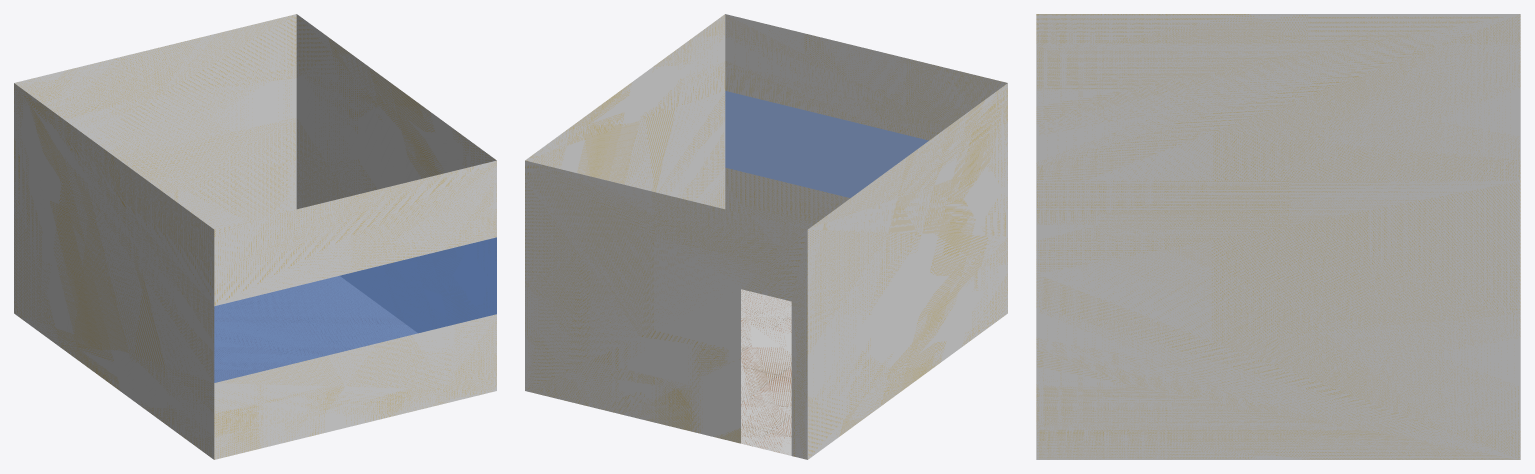
File: LAB008.obj
3 renders of one model, left to right at view 1: azimuth 30°, elevation 25°; view 2: azimuth 150°, elevation 25°; view 3: azimuth 270°, elevation 25°, orthographic. The views are drawn at different scales.
Parts seen in each view (by area): view 1: Mesh1 LAB008 Model; view 2: Mesh1 LAB008 Model; view 3: Mesh1 LAB008 Model.
Part boxes in pixels (box(x1,y1,x2,y2)): Mesh1 LAB008 Model: box(14, 14, 496, 459); Mesh1 LAB008 Model: box(525, 14, 1007, 459); Mesh1 LAB008 Model: box(1036, 14, 1520, 459).
Bounding box in the file's own units: 3.85 × 2.99 × 4.72.
Materials: 5 (1 with a texture image).
